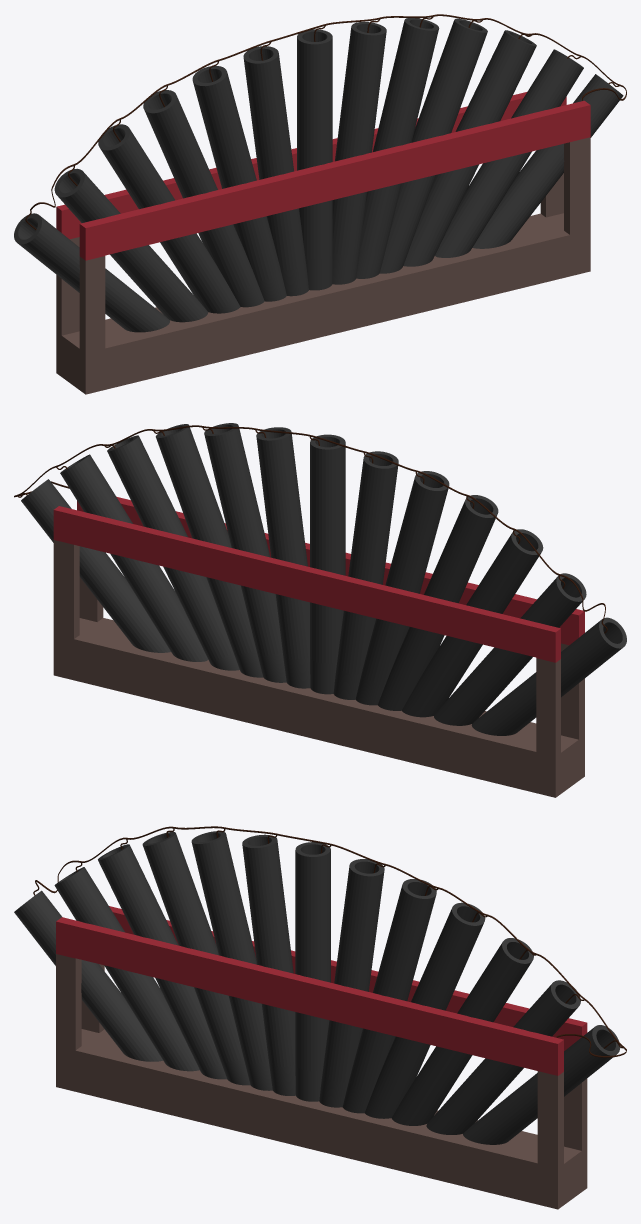
File: Finale13Rack.fbx
3 renders of one model, top to bottom at view 1: azimuth 30°, elevation 25°; view 2: azimuth 150°, elevation 25°; view 3: azimuth 330°, elevation 25°, orthographic.
Visible parts, largest first — view 1: Cube, Cylinder.001, Cylinder.012, Cylinder.003, Cylinder.002, Cylinder.005, Cylinder.006, Cylinder.004, Cylinder, Cylinder.007, Cylinder.008, Cylinder.010 (+3 smaller); view 2: Cube, Cylinder.001, Cylinder.012, Cylinder.003, Cylinder.002, Cylinder.005, Cylinder.006, Cylinder.004, Cylinder, Cylinder.008, Cylinder.007, Cylinder.010 (+3 smaller); view 3: Cube, Cylinder.012, Cylinder.002, Cylinder.004, Cylinder.001, Cylinder, Cylinder.003, Cylinder.005, Cylinder.007, Cylinder.006, Cylinder.010, Cylinder.008 (+3 smaller).
Part boxes in pixels (x1,y1,x2,y2): Cube: (56, 92, 590, 394); Cylinder.001: (332, 22, 386, 284); Cylinder.012: (297, 29, 332, 290); Cylinder.003: (356, 18, 439, 278); Cylinder.002: (243, 46, 308, 296); Cylinder.005: (379, 18, 487, 273); Cylinder.006: (403, 30, 536, 266); Cylinder.004: (192, 66, 286, 301); Cylinder: (143, 90, 264, 307); Cylinder.007: (98, 124, 240, 313); Cylinder.008: (435, 49, 583, 257); Cylinder.010: (54, 168, 208, 322); Cube: (53, 496, 584, 797); Cylinder.001: (256, 427, 310, 688); Cylinder.012: (310, 434, 345, 694); Cylinder.003: (204, 423, 286, 682); Cylinder.002: (333, 451, 398, 699); Cylinder.005: (155, 424, 262, 677); Cylinder.006: (107, 435, 239, 670); Cylinder.004: (355, 471, 449, 705); Cylinder: (378, 495, 498, 710); Cylinder.008: (60, 454, 208, 661); Cylinder.007: (401, 529, 543, 717); Cylinder.010: (434, 573, 586, 725); Cube: (56, 906, 587, 1209); Cylinder.012: (295, 842, 330, 1101); Cylinder.002: (242, 834, 295, 1095); Cylinder.004: (191, 831, 272, 1090); Cylinder.001: (319, 859, 384, 1107); Cylinder: (142, 832, 250, 1085); Cylinder.003: (342, 879, 436, 1113); Cylinder.005: (365, 902, 485, 1118); Cylinder.007: (98, 844, 226, 1079); Cylinder.006: (391, 938, 533, 1125); Cylinder.010: (54, 867, 199, 1071); Cylinder.008: (426, 980, 580, 1134).
Bounding box in the file's own units: 593 × 273 × 49.47.
